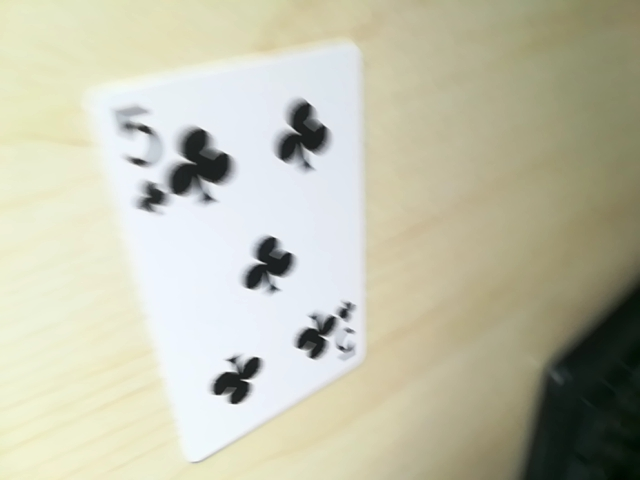mh 5: (108, 94, 185, 217), (307, 295, 359, 370)
